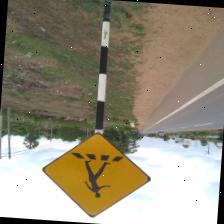yellowboard: (37, 128, 154, 222)
